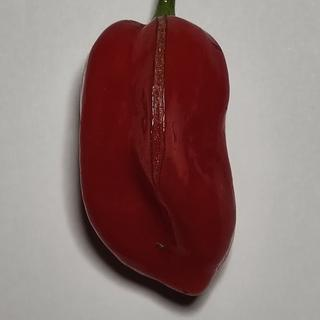striped: (142, 14, 173, 182)
